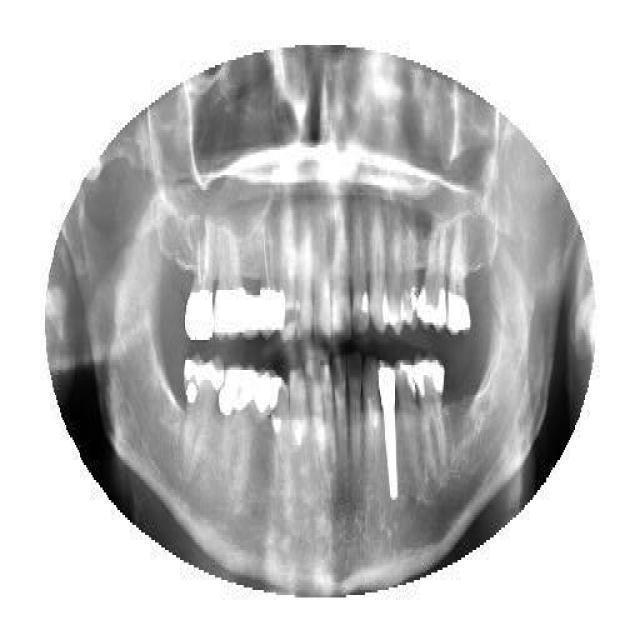Fillings: (181, 352, 224, 480), (219, 366, 257, 484), (184, 218, 216, 343), (417, 358, 447, 483), (253, 371, 286, 479), (255, 224, 285, 339), (417, 220, 447, 328), (214, 231, 245, 331), (397, 360, 419, 490), (447, 223, 472, 335), (241, 226, 259, 334)
Implant: (378, 356, 398, 499)
